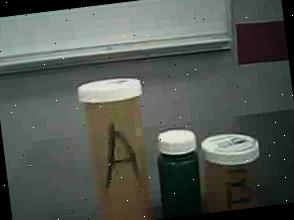Bottle A: (70, 70, 159, 220)
Bottle B: (200, 129, 266, 213)
Bottle C: (150, 124, 209, 219)
